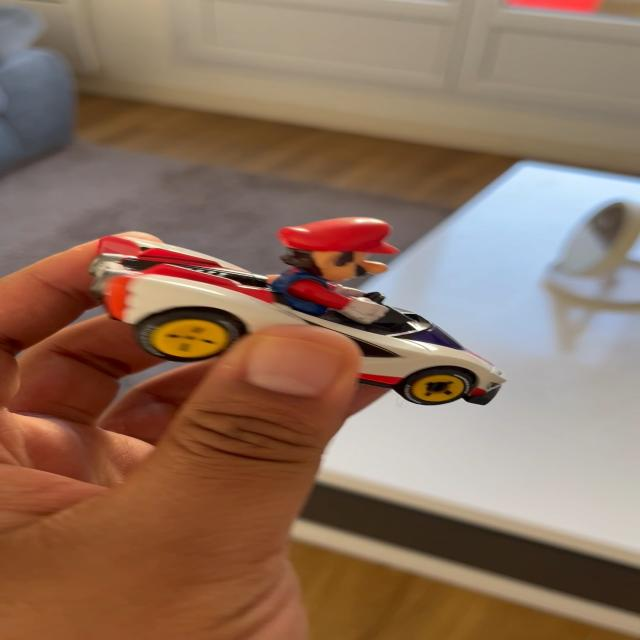mario: (78, 211, 534, 419)
